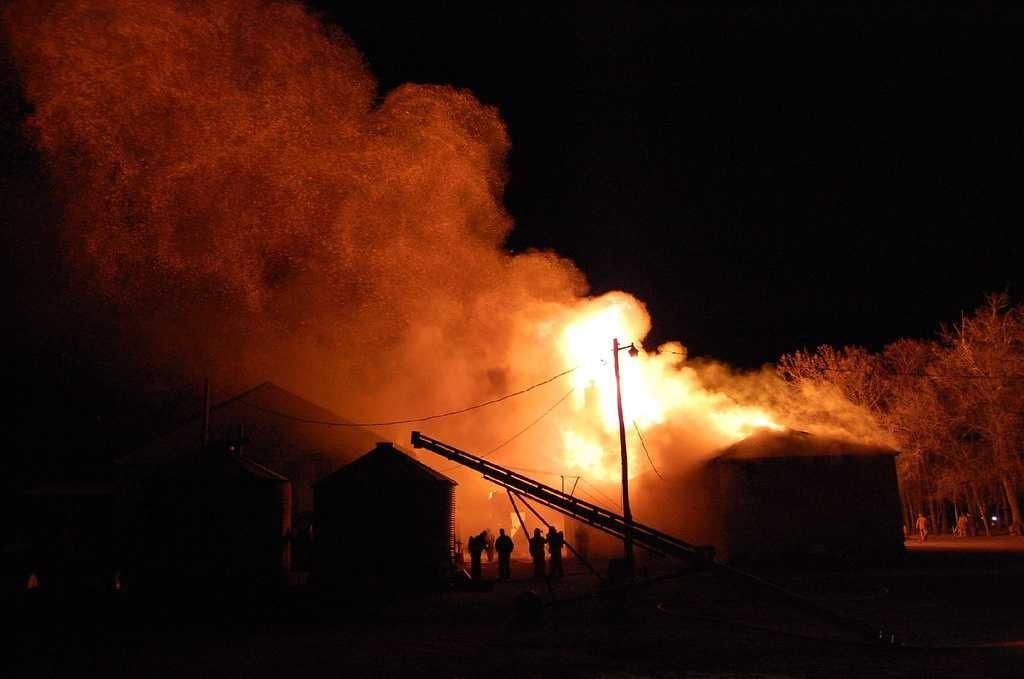fire: (565, 307, 613, 483), (623, 352, 672, 443)
smoke: (53, 62, 337, 290), (348, 132, 497, 428)
